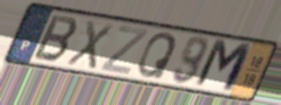9: (170, 35, 209, 87)
B: (30, 13, 81, 65)
M: (191, 37, 255, 96)
Q: (136, 31, 180, 81)
X: (63, 18, 116, 72)
Z: (98, 24, 151, 77)
